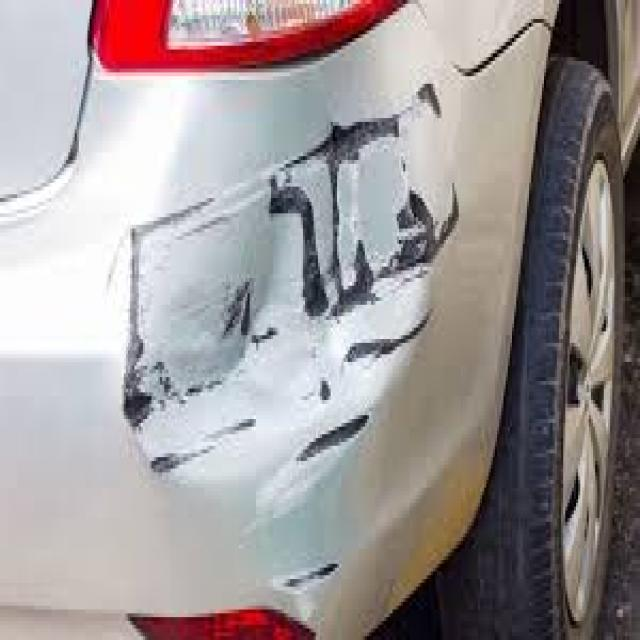minor: (80, 116, 461, 458)
